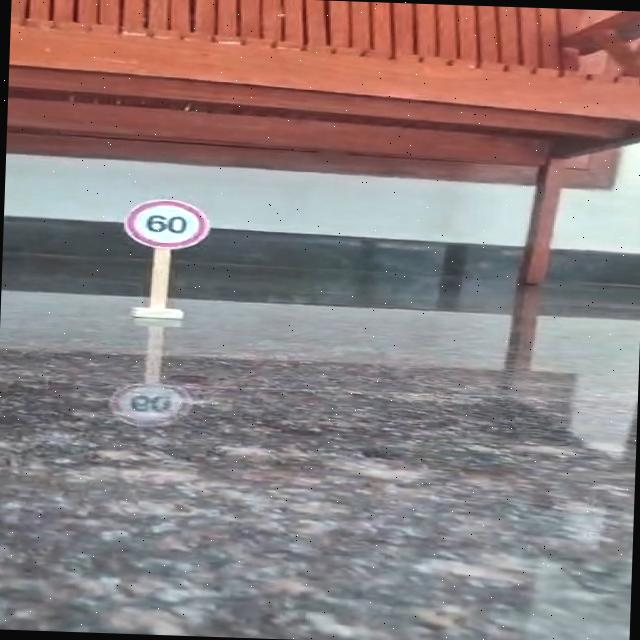Speed60: (113, 188, 225, 258)
